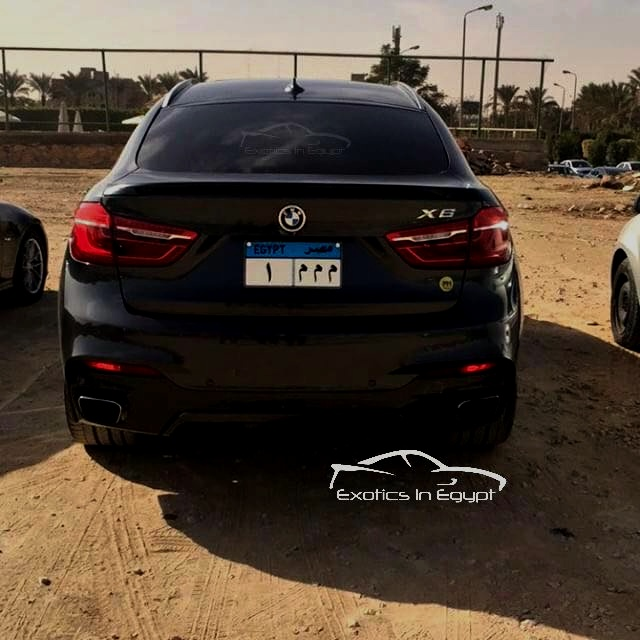License Plate: (241, 238, 345, 291)
